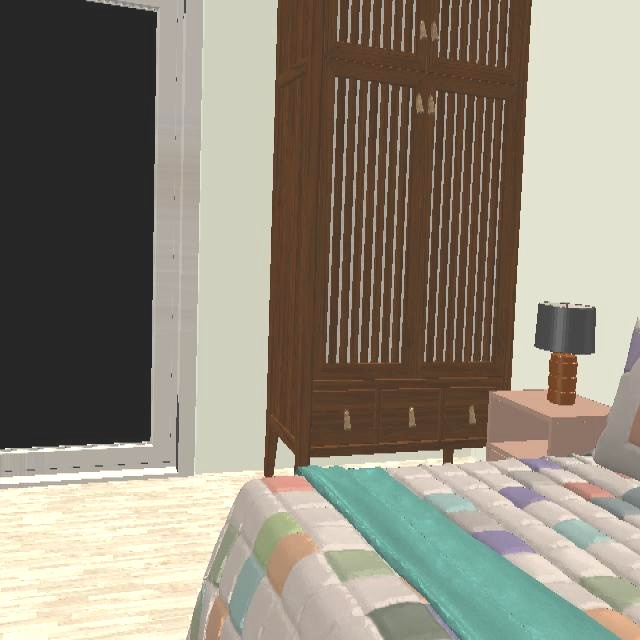bed: (186, 320, 640, 640)
lamp: (534, 301, 598, 408)
nighttable: (487, 389, 611, 463)
wardrobe: (266, 0, 534, 471)
